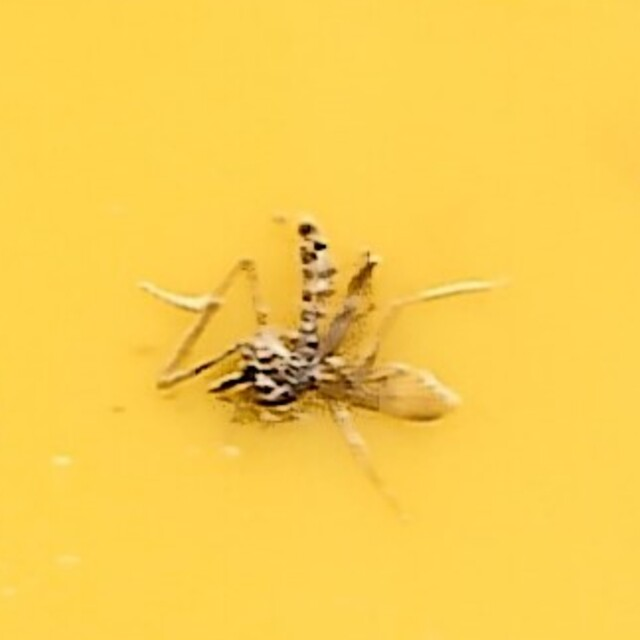Nematocera: (198, 196, 442, 444)
